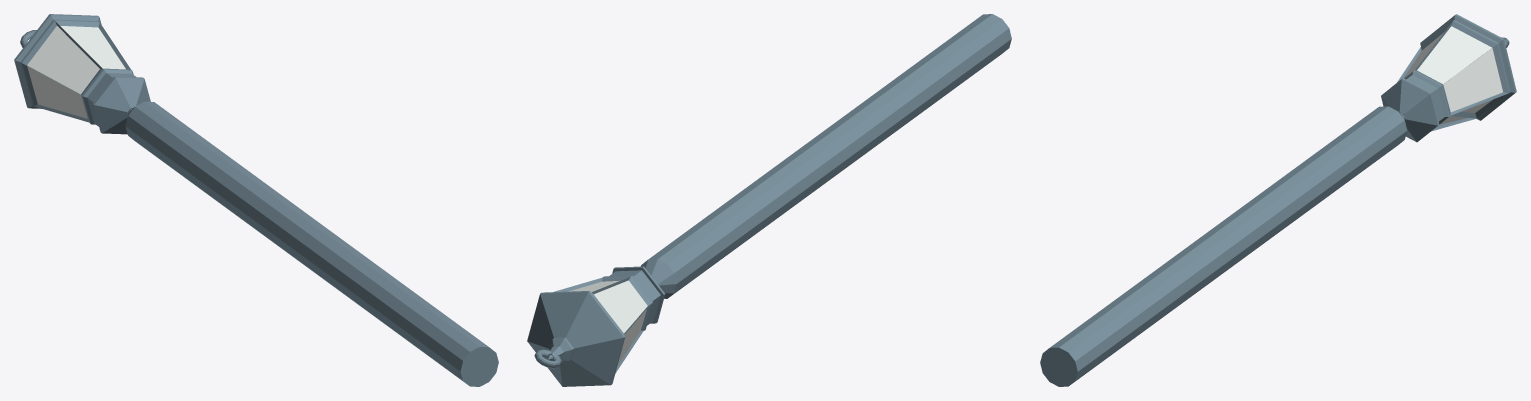
The model's file is Lantern.fbx.
The picture shows the model from 3 angles, left to right: view 1: azimuth 30°, elevation 25°; view 2: azimuth 150°, elevation 25°; view 3: azimuth 330°, elevation 25°; orthographic projection.
Visible parts, largest first — view 1: imagetostl_mesh0, imagetostl_mesh1; view 2: imagetostl_mesh0, imagetostl_mesh1; view 3: imagetostl_mesh0, imagetostl_mesh1.
Part boxes in pixels (bbox=[...]): imagetostl_mesh0: bbox=[14, 14, 498, 386]; imagetostl_mesh1: bbox=[27, 26, 125, 118]; imagetostl_mesh0: bbox=[527, 14, 1011, 386]; imagetostl_mesh1: bbox=[568, 280, 647, 365]; imagetostl_mesh0: bbox=[1040, 14, 1516, 386]; imagetostl_mesh1: bbox=[1404, 26, 1502, 124].
Bounding box in the file's own units: 17.7 × 17.7 × 143.
